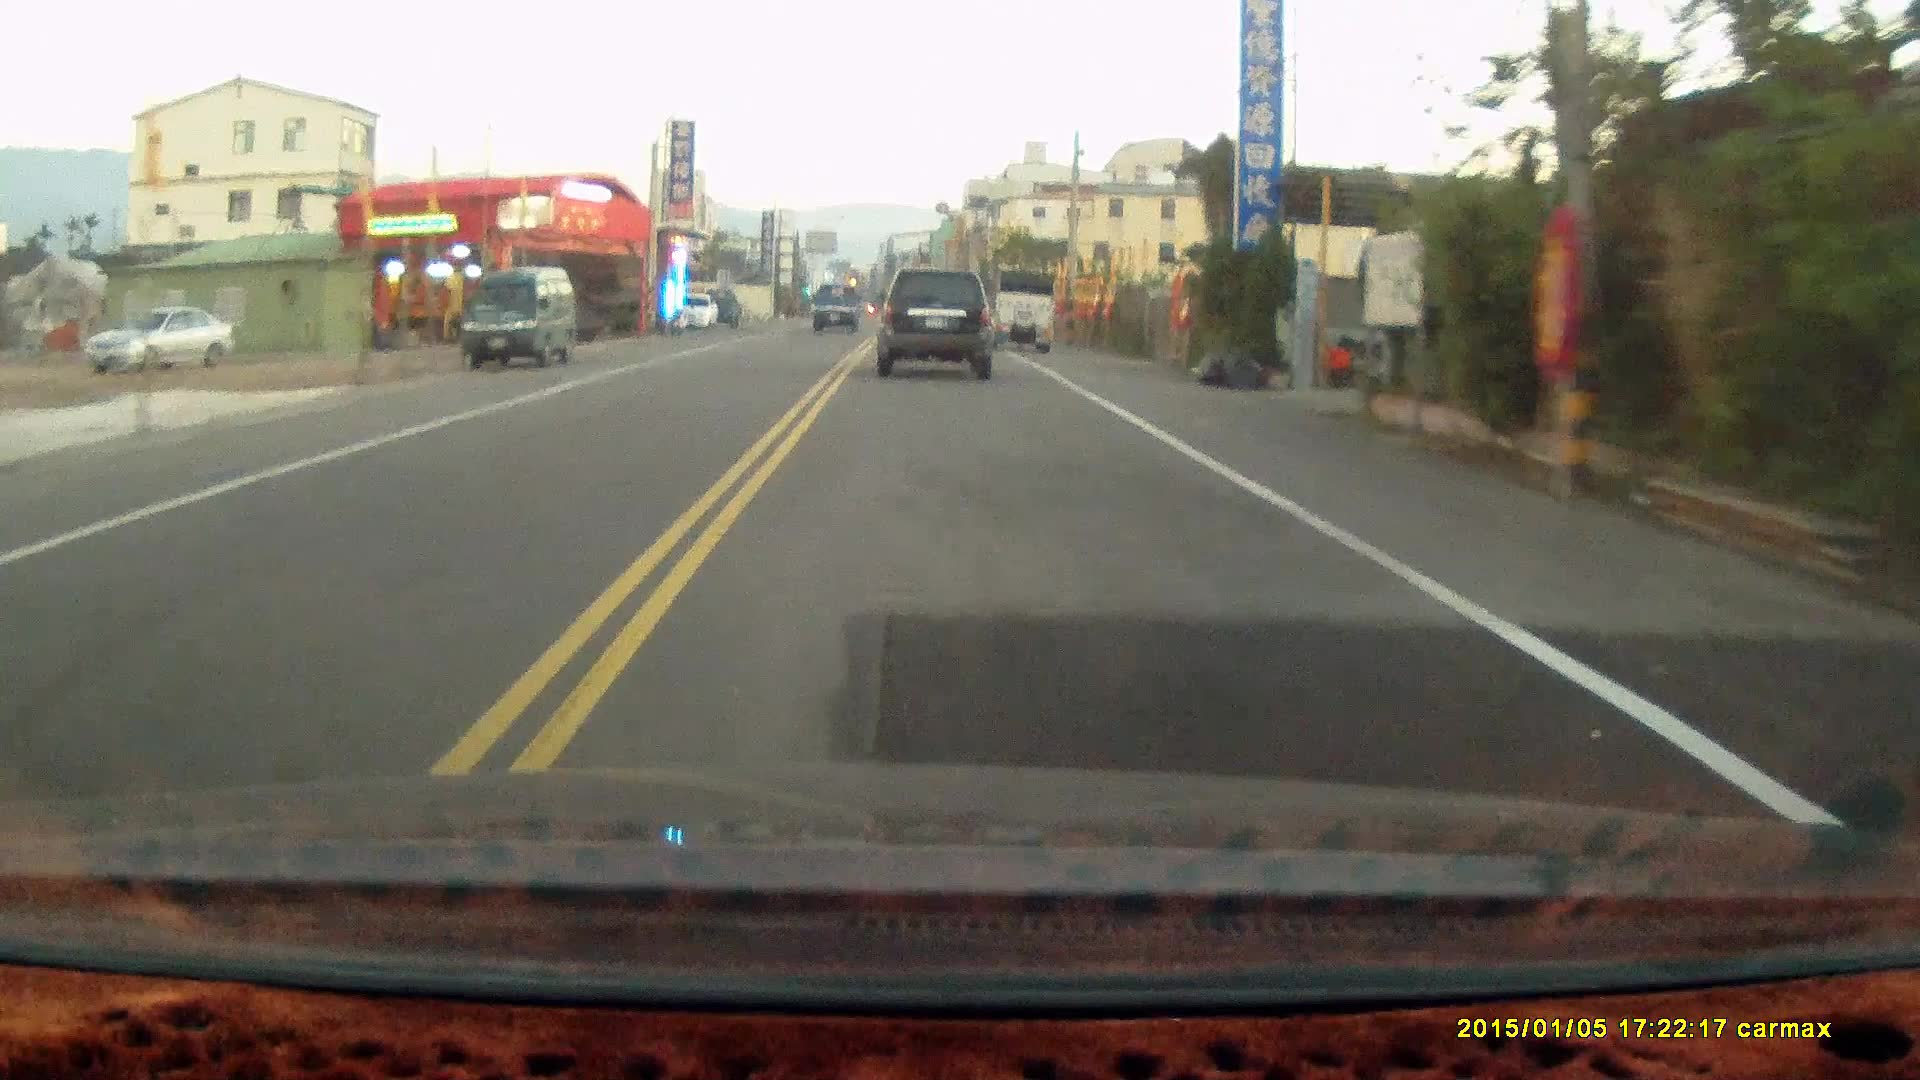vehicle: (869, 266, 1004, 386), (459, 264, 576, 373), (80, 306, 237, 378), (980, 273, 1058, 357), (811, 285, 862, 335)
